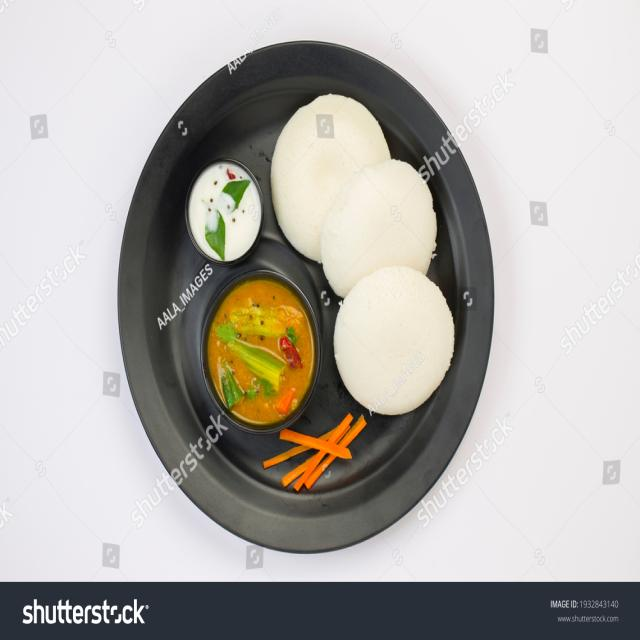IDLI: (269, 92, 454, 417)
